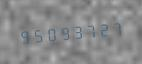five: (30, 23, 42, 46)
nine: (17, 24, 29, 47), (56, 21, 68, 44)
seven: (108, 16, 120, 39), (82, 19, 94, 41)
three: (69, 20, 81, 43)
two: (95, 17, 107, 40)
zero: (43, 22, 55, 45)
